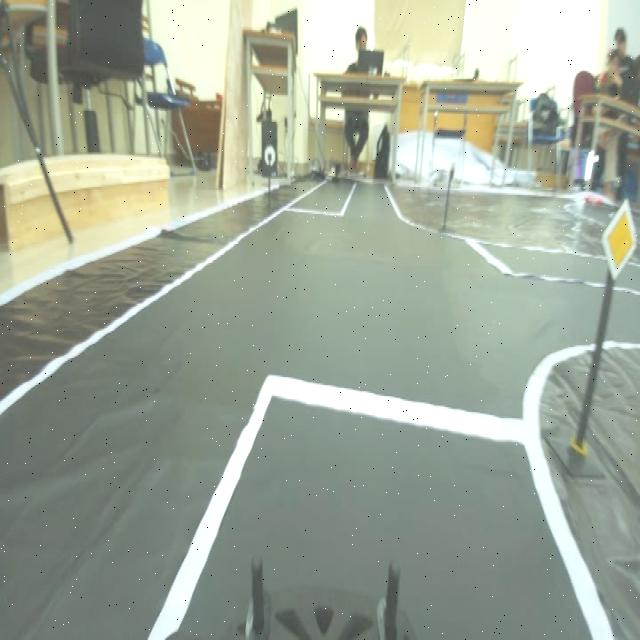priority: (594, 196, 638, 281)
